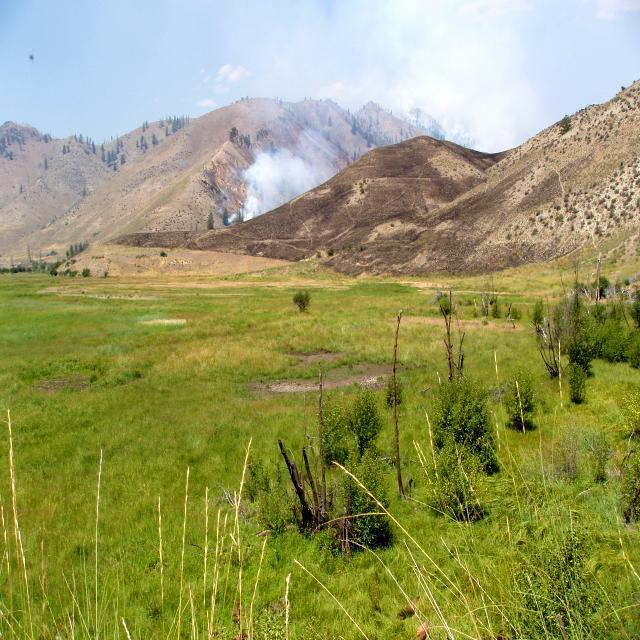Smoke: (234, 120, 337, 220)
